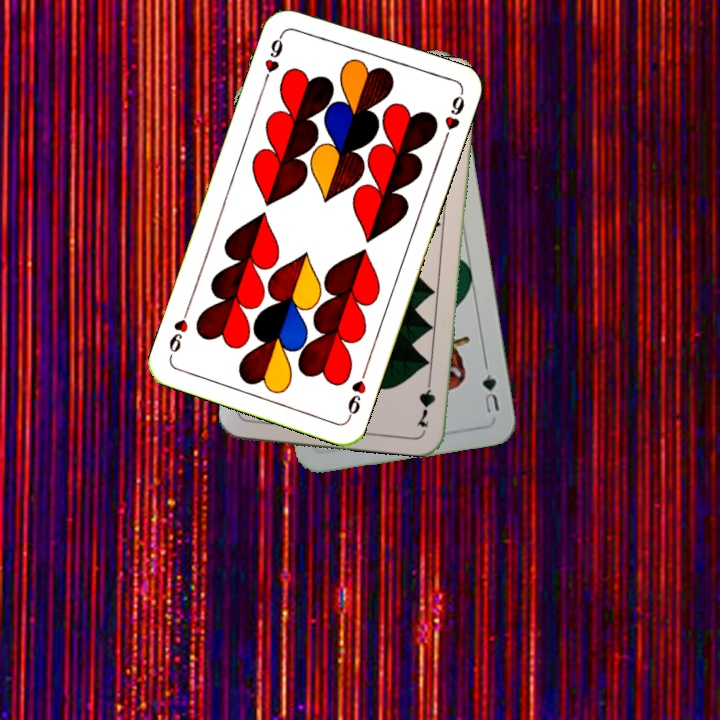G7: (413, 371, 438, 430)
GU: (478, 360, 502, 416)
H9: (260, 28, 287, 86), (344, 364, 370, 422)
